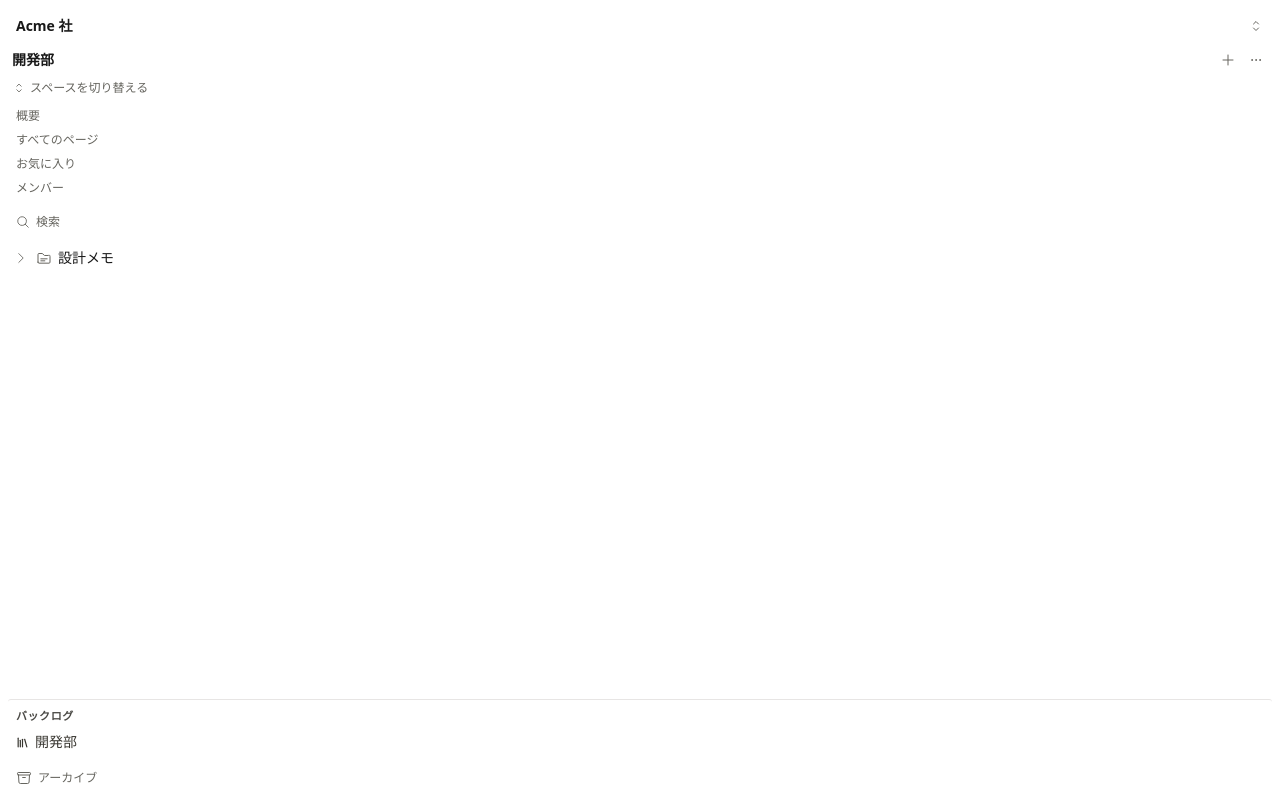
Test case: KbSidebar › 子を開くと次の段が出る
Expected: the text "設計メモ" is shown, [58,248,114,268]
Expected: the text "p1-child" is not shown
Click the button named "設計メモ を開く": (21,258) [10,247,32,269]
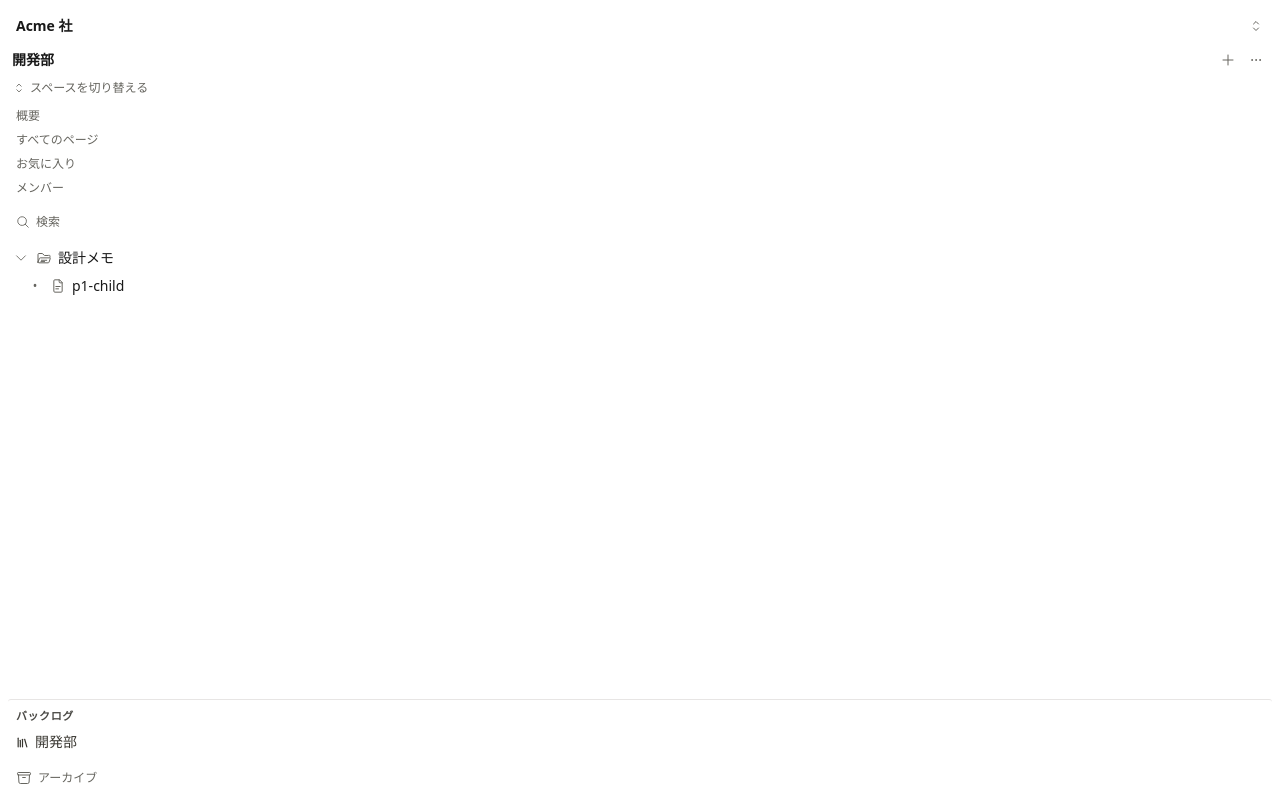
Expected: the text "p1-child" is shown, [72,276,124,296]
